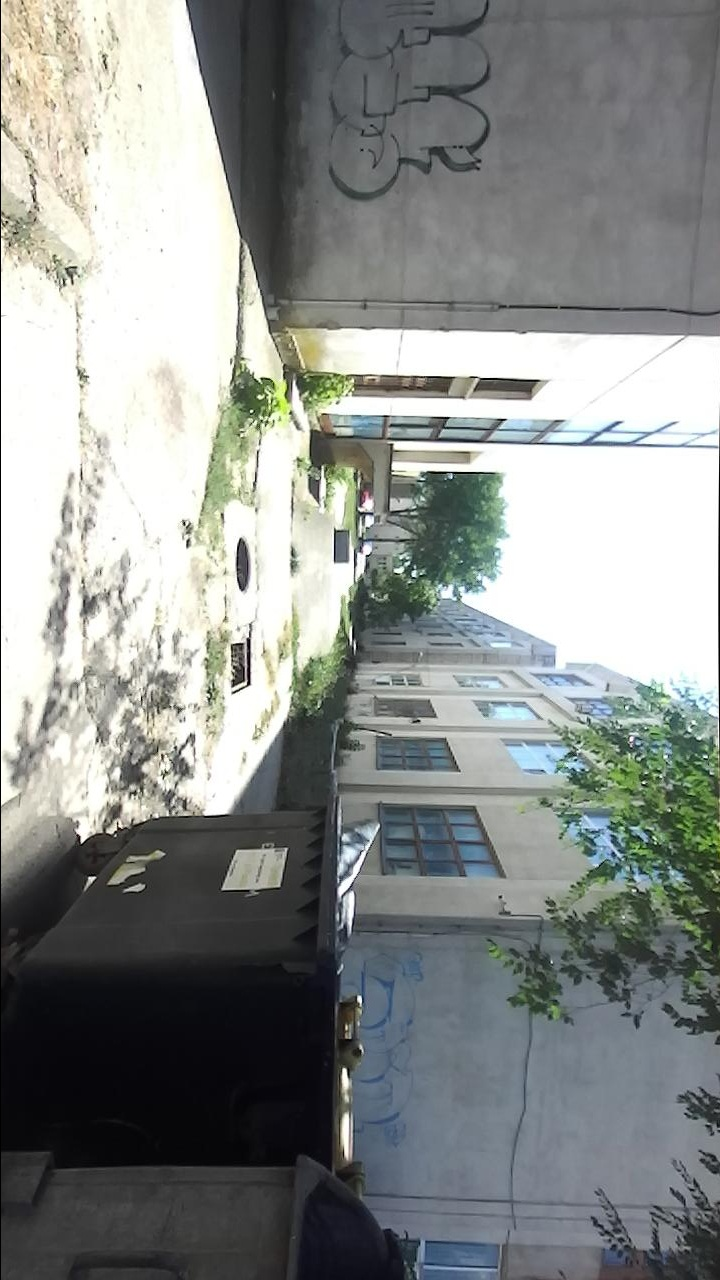drain: (225, 634, 255, 700), (231, 534, 256, 595)
